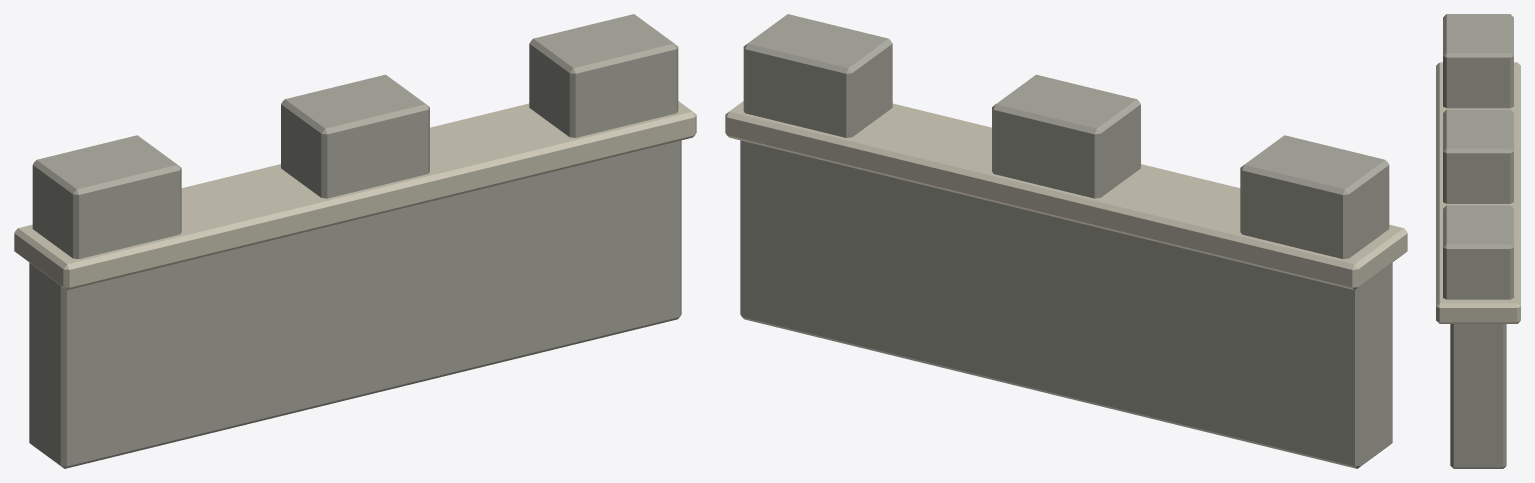
Rendered from parapet.glb.
3 renders of one model, left to right at view 1: azimuth 30°, elevation 25°; view 2: azimuth 150°, elevation 25°; view 3: azimuth 270°, elevation 25°, orthographic. The views are drawn at different scales.
Parts seen in each view (by area): view 1: TV_parapet; view 2: TV_parapet; view 3: TV_parapet.
Part boxes in pixels (<box>): TV_parapet: <box>14,14,696,468</box>; TV_parapet: <box>725,14,1407,468</box>; TV_parapet: <box>1436,14,1520,468</box>.
Size of the model in its own units: 4.08 by 1.73 by 0.6.
